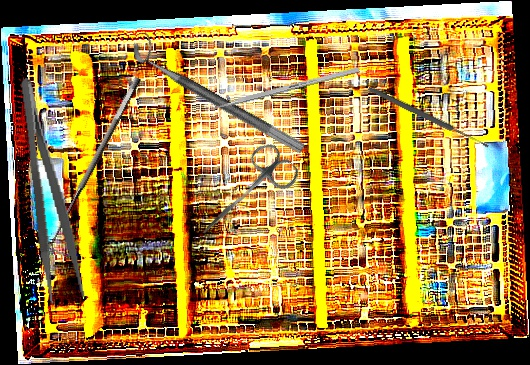Dressing Forceps: (14, 74, 87, 305)
Fixation Ring: (127, 30, 314, 155)
Hook Surgical: (41, 74, 155, 259)
Iris Scissors: (187, 138, 303, 253)
Pusher: (196, 66, 360, 116)
Surgical Spoon: (366, 84, 491, 151)
